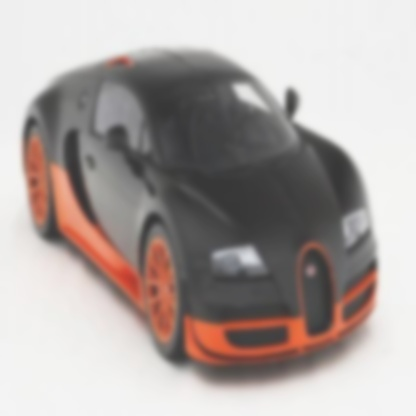Vehicle: (25, 46, 380, 366)
